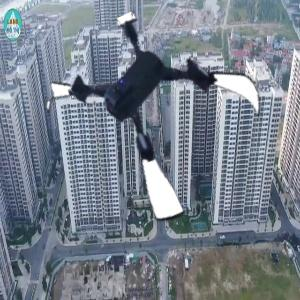drone: (54, 11, 264, 221)
